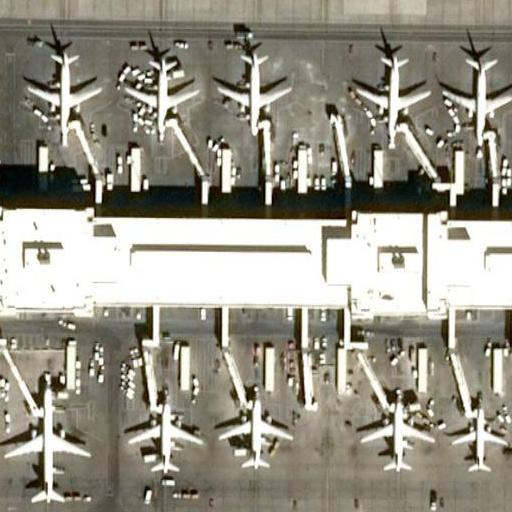Aircraft: (2, 386, 99, 504), (353, 41, 434, 146), (23, 44, 105, 142), (440, 40, 512, 146), (121, 47, 201, 140), (218, 43, 295, 136), (120, 391, 202, 478), (216, 387, 297, 471), (356, 388, 436, 472), (448, 401, 511, 474)
